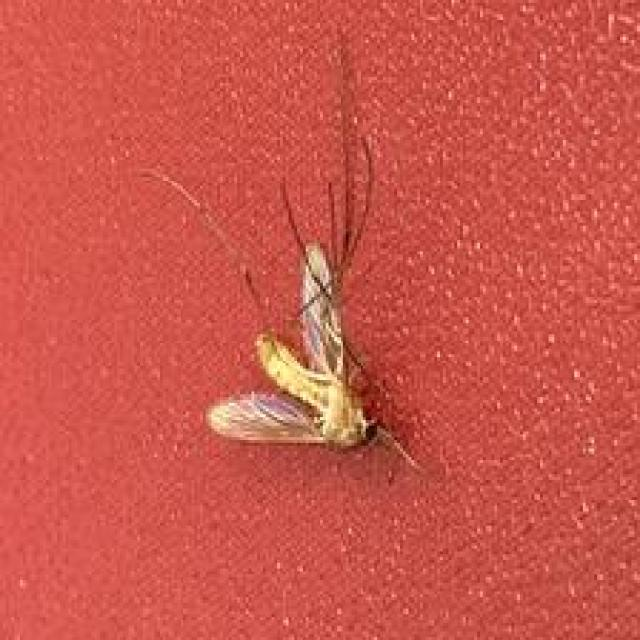Culex: (136, 32, 430, 477)
